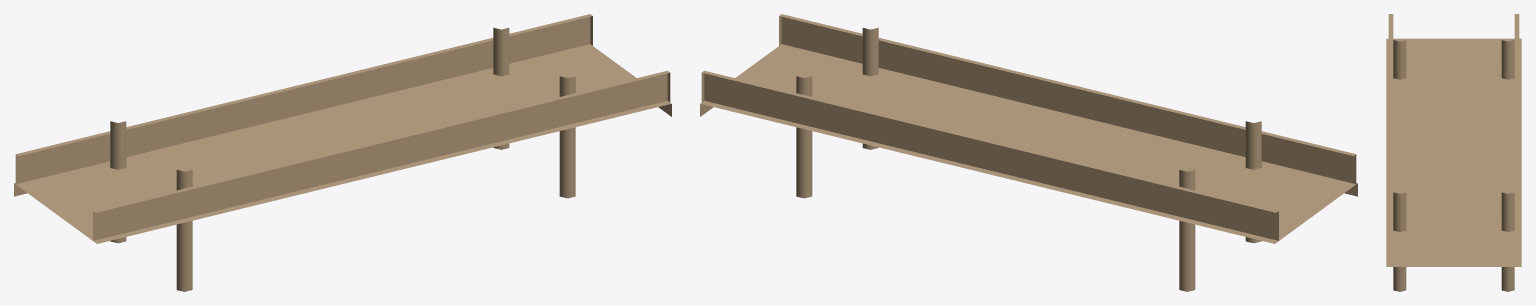
File: bridge_timber.glb
3 views of the same model, side by side, from view 1: azimuth 30°, elevation 25°; view 2: azimuth 150°, elevation 25°; view 3: azimuth 270°, elevation 25° (orthographic). The views are drawn at different scales.
Parts seen in each view (by area): view 1: Bridge; view 2: Bridge; view 3: Bridge.
Part boxes in pixels (x1,y1,x2,y2): Bridge: [14, 14, 671, 291]; Bridge: [700, 14, 1357, 291]; Bridge: [1386, 14, 1521, 291].
Bounding box in the file's own units: 18 × 3.6 × 4.5.
